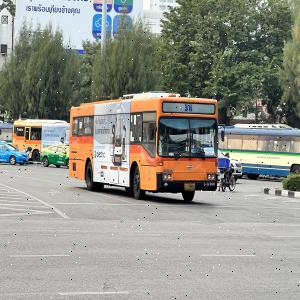BMTA-bus: (67, 92, 219, 203)
Bus Line Number: (182, 102, 194, 115)
Bus Side Number: (202, 180, 215, 186), (72, 119, 78, 125)
Destination Sign: (200, 141, 212, 150)
